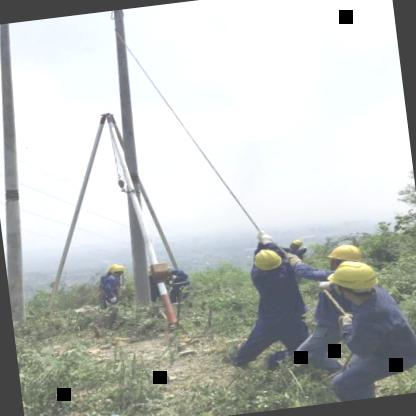helmet: (330, 258, 379, 300), (323, 235, 367, 268), (247, 246, 287, 278), (282, 234, 306, 254), (105, 261, 130, 280)
